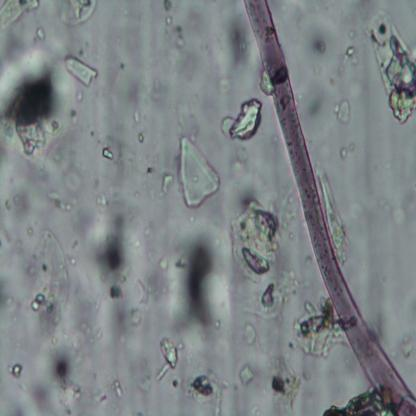Background material: (0, 51, 76, 165), (8, 320, 97, 416), (170, 218, 232, 340), (20, 219, 79, 340), (365, 8, 416, 120), (233, 184, 290, 280), (83, 204, 136, 303), (171, 123, 222, 215), (107, 304, 155, 384), (314, 160, 347, 258), (296, 296, 340, 356), (218, 94, 266, 144), (264, 352, 304, 411), (250, 276, 297, 326), (323, 383, 396, 415), (302, 23, 341, 77), (96, 130, 137, 180), (134, 255, 169, 311), (183, 369, 229, 410), (222, 12, 252, 74), (300, 82, 334, 132), (0, 0, 46, 35), (48, 171, 82, 216), (58, 0, 100, 32), (163, 0, 188, 52), (155, 337, 183, 383), (9, 187, 40, 227), (67, 57, 99, 87), (0, 262, 17, 318), (236, 361, 262, 388), (334, 98, 352, 126), (242, 320, 260, 348), (108, 378, 126, 404), (160, 170, 174, 198)
Microfibre: (244, 0, 416, 414)
